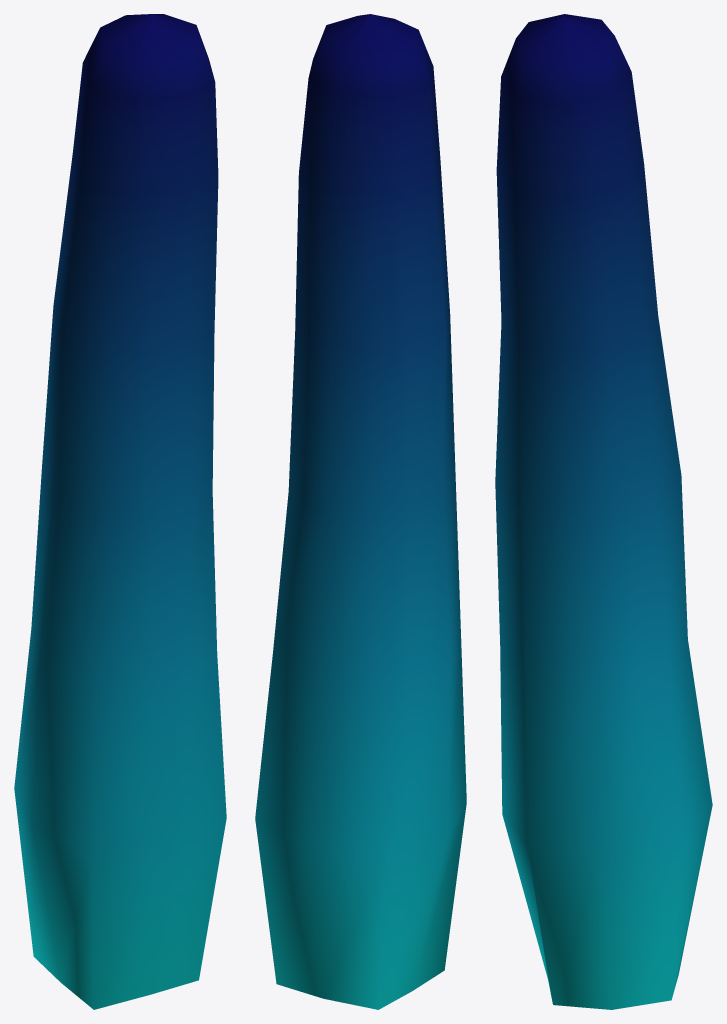
File: Saguaro2.fbx
The picture shows the model from 3 angles, left to right: view 1: azimuth 30°, elevation 25°; view 2: azimuth 150°, elevation 25°; view 3: azimuth 270°, elevation 25°; orthographic projection. The views are drawn at different scales.
Visible parts, largest first — view 1: Saguaro2_LOD0; view 2: Saguaro2_LOD0; view 3: Saguaro2_LOD0.
Part boxes in pixels (left/top/right/bottom): Saguaro2_LOD0: left=14, top=14, right=226, bottom=1009; Saguaro2_LOD0: left=255, top=14, right=466, bottom=1009; Saguaro2_LOD0: left=495, top=14, right=712, bottom=1009.
Size of what is drawn, in the model's own units: 37.74 by 194 by 39.37.
